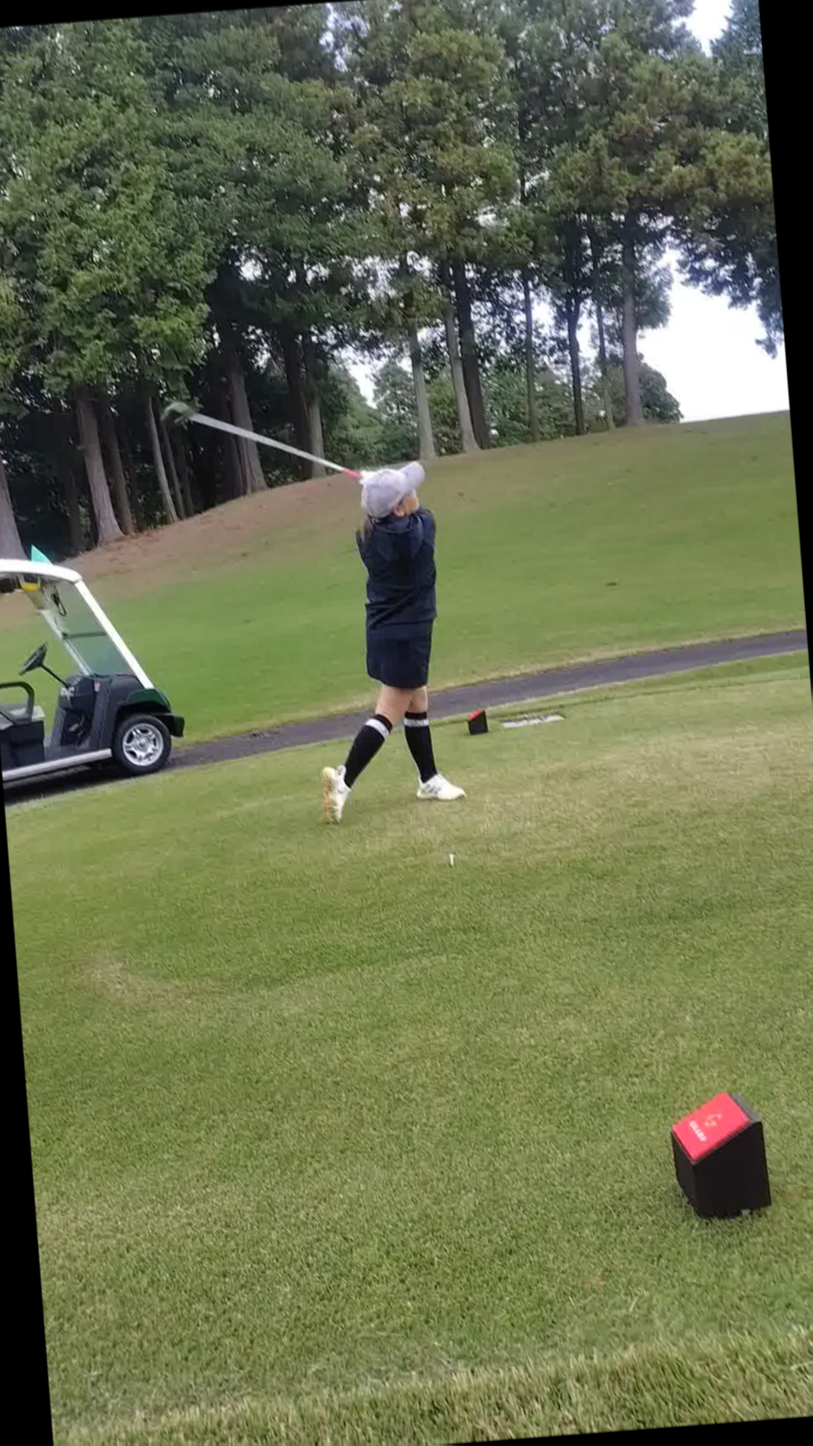clubhead: (87, 346, 310, 548)
